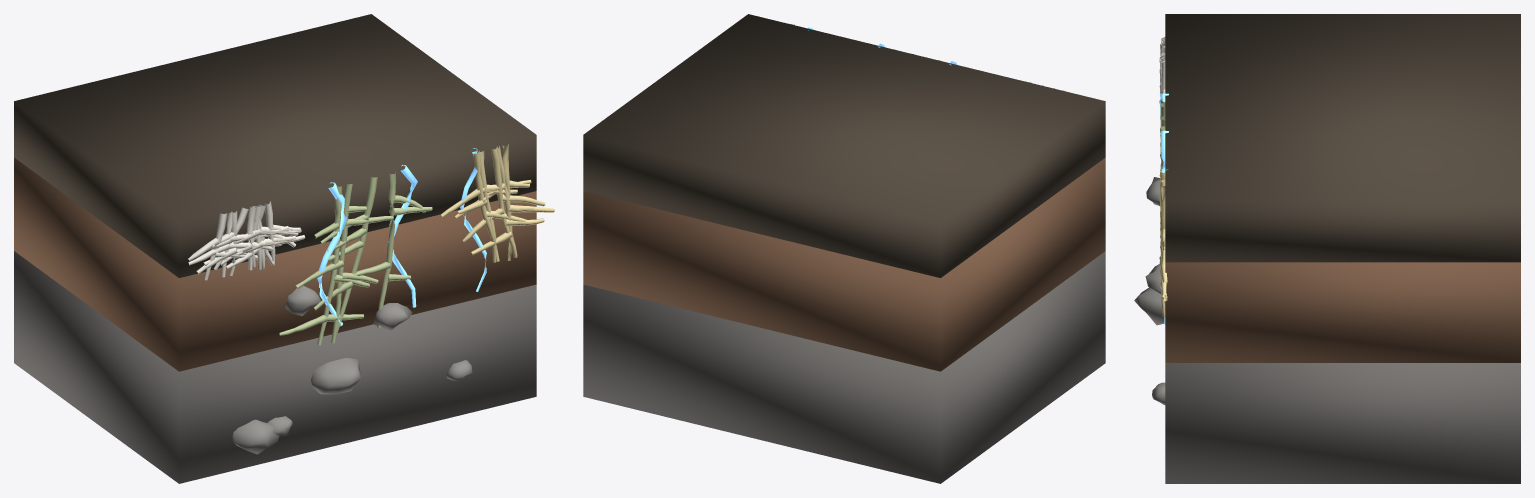
The model's file is soil-cutaway.glb.
3 views of the same model, side by side, from view 1: azimuth 30°, elevation 25°; view 2: azimuth 150°, elevation 25°; view 3: azimuth 270°, elevation 25° (orthographic). The views are drawn at different scales.
Parts seen in each view (by area): view 1: Topsoil, Bedrock, Subsoil, RootSystem_legume, RootSystem_cereal, RootSystem_brassica, Rock_6, Rock_5, WaterChannel_1, Rock_2, Rock_4, WaterChannel_2; view 2: Topsoil, Bedrock, Subsoil; view 3: Topsoil, Bedrock, Subsoil, RootSystem_brassica, Rock_6.
Part boxes in pixels (x1,y1,x2,y2): Topsoil: (14, 14, 536, 277); Bedrock: (14, 251, 536, 483); Subsoil: (14, 157, 536, 371); RootSystem_legume: (279, 171, 432, 345); RootSystem_cereal: (188, 201, 305, 280); RootSystem_brassica: (441, 144, 554, 262); Rock_6: (311, 358, 361, 394); Rock_5: (232, 419, 279, 454); WaterChannel_1: (317, 182, 346, 326); Rock_2: (373, 303, 412, 330); Rock_4: (285, 285, 320, 315); WaterChannel_2: (388, 164, 417, 307); Topsoil: (583, 14, 1105, 277); Bedrock: (583, 251, 1105, 483); Subsoil: (583, 157, 1105, 371); Topsoil: (1165, 14, 1520, 262); Bedrock: (1165, 363, 1520, 483); Subsoil: (1165, 262, 1520, 362); RootSystem_brassica: (1159, 171, 1167, 317); Rock_6: (1134, 287, 1164, 325).
Size of the model in its own units: 20.97 by 14.11 by 17.4.
